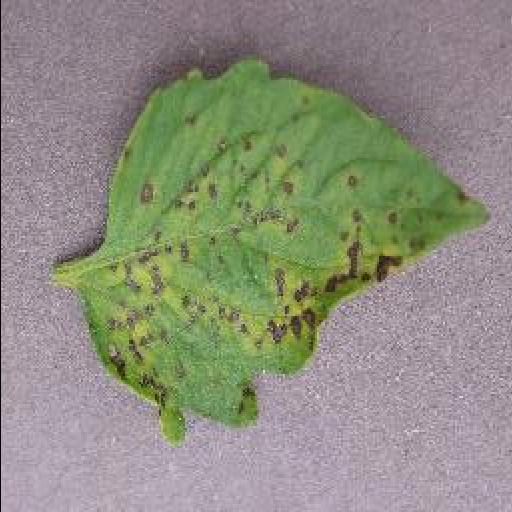disease_tomato: (78, 63, 492, 448)
